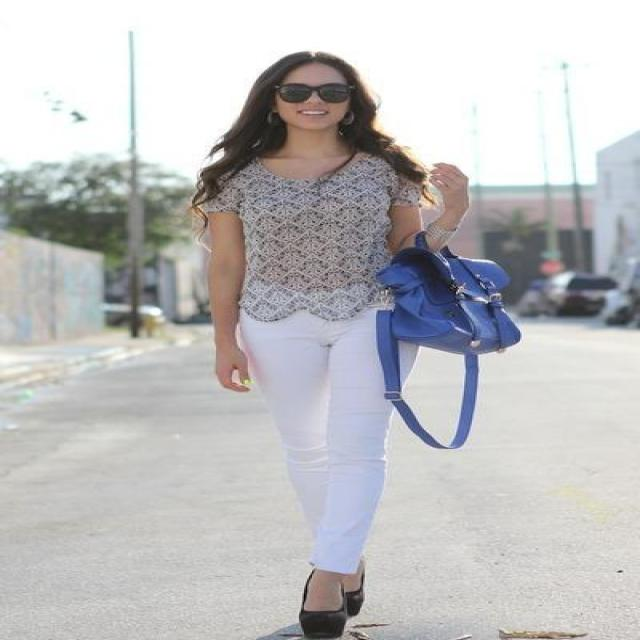bag: (376, 243, 528, 448)
pants: (232, 307, 410, 573)
shirt: (218, 153, 410, 322)
shoe: (299, 576, 363, 639)
sunglass: (309, 68, 363, 102)
